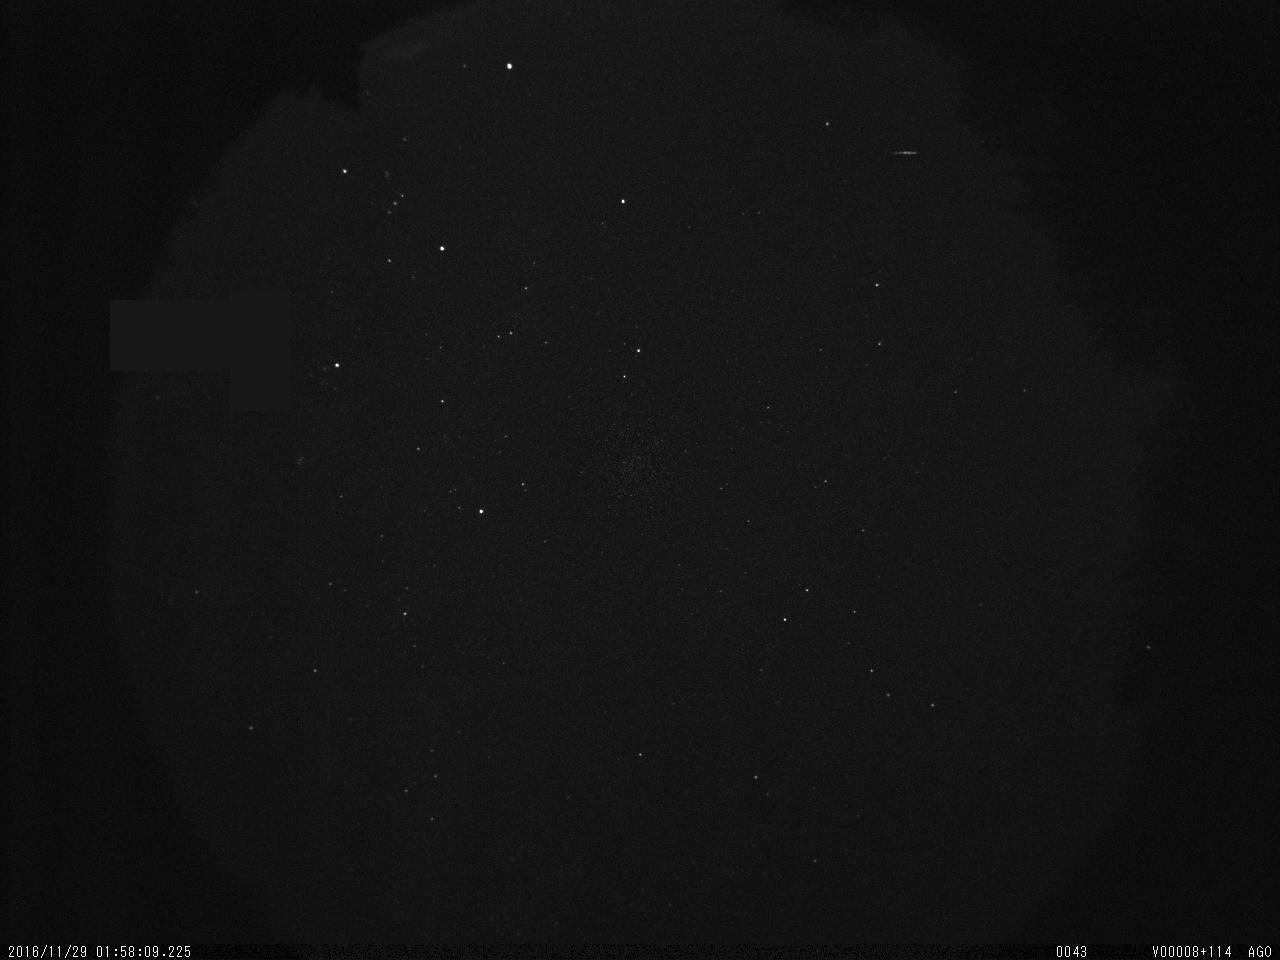Meteor: (888, 146, 921, 158)
